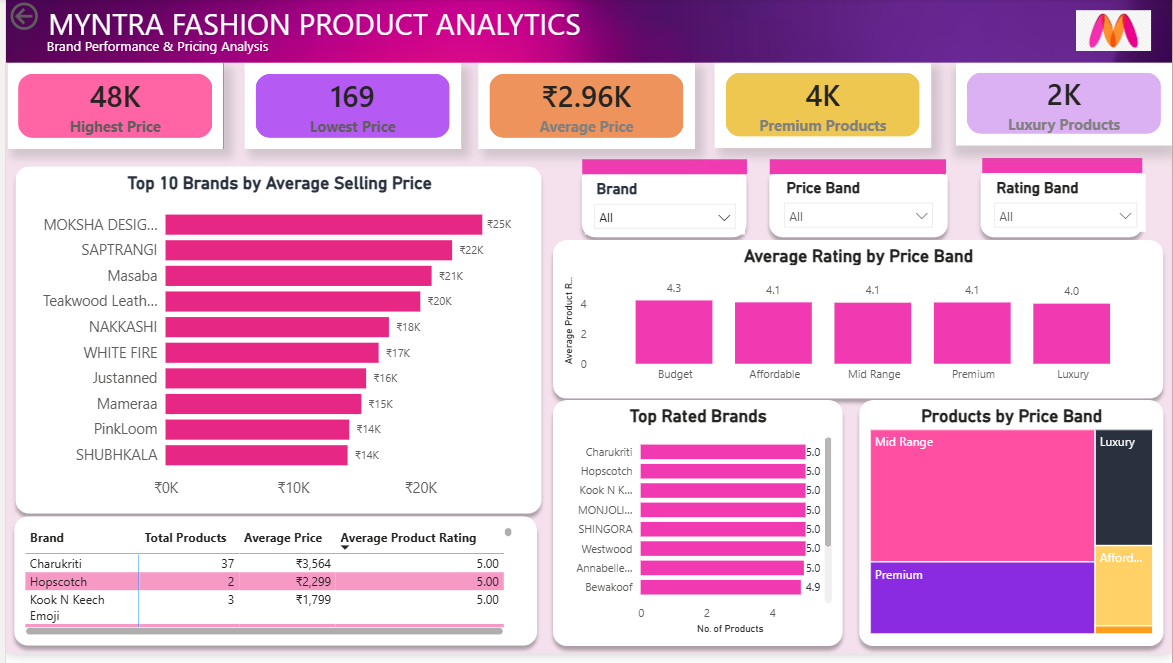

Layout of this report page (visuals, bound fields, positions):
{"tool":"powerbi","page":{"name":"Page 2","canvas":[1280,720],"ordinal":1},"visuals":[{"type":"textbox","box":[23.3,101.5,1257,17.8],"z":0},{"type":"shape","box":[623,175.6,199,96.1],"z":1000},{"type":"shape","box":[828.8,175.6,214.1,96.1],"z":2000},{"type":"shape","box":[1060.7,175.6,196.2,96.1],"z":3000},{"type":"shape","box":[632.6,177,181.1,16.5],"z":4000},{"type":"shape","box":[1071.7,175.6,175.6,16.5],"z":5000},{"type":"shape","box":[838.4,177,193.5,16.5],"z":6000},{"type":"shape","box":[1.4,175.6,595.5,399.3],"z":7000},{"type":"shape","box":[592,256,688,192],"z":8000},{"type":"shape","box":[592,432,336,288],"z":9000},{"type":"shape","box":[0,560,592,160],"z":10000},{"type":"cardVisual","fields":{"Data":["Fashion Dataset.Highest Price"]},"box":[1.4,71.4,237.4,94.7],"z":11000},{"type":"cardVisual","fields":{"Data":["Fashion Dataset.Premium Products"]},"box":[778,70,237.4,94.7],"z":12000},{"type":"cardVisual","fields":{"Data":["Fashion Dataset.Average Price"]},"box":[518.7,71.4,237.4,94.7],"z":13000},{"type":"cardVisual","fields":{"Data":["Fashion Dataset.Lowest Price"]},"box":[262.1,71.4,237.4,94.7],"z":14000},{"type":"cardVisual","fields":{"Data":["Fashion Dataset.Luxury Products"]},"box":[1042.9,70,237.4,91.9],"z":15000},{"type":"clusteredBarChart","title":"Top 10 Brands by Average Selling Price","fields":{"Category":["Fashion Dataset.Brand"],"Y":["Fashion Dataset.Average Price"]},"box":[23.3,192.1,554.4,367.8],"z":16000},{"type":"clusteredBarChart","title":"Top Rated Brands","fields":{"Category":["Fashion Dataset.Brand"],"Y":["Fashion Dataset.Average Brand Rating (Rated Only)"]},"box":[608,448,304,256],"z":17000},{"type":"shape","box":[928,432,352,288],"z":18000},{"type":"clusteredColumnChart","title":"Average Rating by Price Band","fields":{"Category":["Fashion Dataset.Price Band"],"Y":["Fashion Dataset.Average Product Rating"]},"box":[608,272,656,160],"z":19000},{"type":"slicer","fields":{"Values":["Fashion Dataset.Brand"]},"box":[635.3,194.9,175.6,64.5],"z":20000},{"type":"slicer","fields":{"Values":["Fashion Dataset.Price Band"]},"box":[843.9,193.5,183.9,64.5],"z":21000},{"type":"slicer","fields":{"Values":["Fashion Dataset.Rating Band"]},"box":[1074.4,193.5,177,63.1],"z":22000},{"type":"image","box":[0,1.4,1280.3,70],"z":23000},{"type":"textbox","box":[1.4,1.4,724.5,57.6],"z":24000},{"type":"textbox","box":[39.8,37,583.2,34.3],"z":25000},{"type":"image","box":[1174.6,1.4,82.3,68.6],"z":26000},{"type":"actionButton","box":[0,0,100,40],"z":27000},{"type":"treemap","title":"Products by Price Band","fields":{"Group":["Fashion Dataset.Price Band"],"Values":["CountNonNull(Fashion Dataset.Product Id)"]},"box":[944,448,320,256],"z":28000},{"type":"pivotTable","fields":{"Rows":["Fashion Dataset.Brand"],"Values":["Fashion Dataset.Total Products","Fashion Dataset.Average Price","Fashion Dataset.Average Product Rating"]},"box":[16,576,544,128],"z":29000}]}

Visuals, with their boxes in screenshot pixels (x1, y1, x2, y2), scaled from the page's 1280x720 canvas onto the 1173x663 screenshot:
textbox: (left=21, top=93, right=1172, bottom=110)
shape: (left=571, top=162, right=753, bottom=250)
shape: (left=760, top=162, right=956, bottom=250)
shape: (left=972, top=162, right=1152, bottom=250)
shape: (left=580, top=163, right=746, bottom=178)
shape: (left=982, top=162, right=1143, bottom=177)
shape: (left=768, top=163, right=946, bottom=178)
shape: (left=1, top=162, right=547, bottom=529)
shape: (left=543, top=236, right=1172, bottom=413)
shape: (left=543, top=398, right=850, bottom=662)
shape: (left=0, top=516, right=543, bottom=662)
cardVisual - Fashion Dataset.Highest Price: (left=1, top=66, right=219, bottom=153)
cardVisual - Fashion Dataset.Premium Products: (left=713, top=64, right=931, bottom=152)
cardVisual - Fashion Dataset.Average Price: (left=475, top=66, right=693, bottom=153)
cardVisual - Fashion Dataset.Lowest Price: (left=240, top=66, right=458, bottom=153)
cardVisual - Fashion Dataset.Luxury Products: (left=956, top=64, right=1172, bottom=149)
"Top 10 Brands by Average Selling Price" clusteredBarChart: (left=21, top=177, right=529, bottom=516)
"Top Rated Brands" clusteredBarChart: (left=557, top=413, right=836, bottom=648)
shape: (left=850, top=398, right=1172, bottom=662)
"Average Rating by Price Band" clusteredColumnChart: (left=557, top=250, right=1158, bottom=398)
slicer - Fashion Dataset.Brand: (left=582, top=179, right=743, bottom=239)
slicer - Fashion Dataset.Price Band: (left=773, top=178, right=942, bottom=238)
slicer - Fashion Dataset.Rating Band: (left=985, top=178, right=1147, bottom=236)
image: (left=0, top=1, right=1172, bottom=66)
textbox: (left=1, top=1, right=665, bottom=54)
textbox: (left=36, top=34, right=571, bottom=66)
image: (left=1076, top=1, right=1152, bottom=64)
actionButton: (left=0, top=0, right=92, bottom=37)
"Products by Price Band" treemap: (left=865, top=413, right=1158, bottom=648)
pivotTable - Fashion Dataset.Brand x Fashion Dataset.Total Products: (left=15, top=530, right=513, bottom=648)
